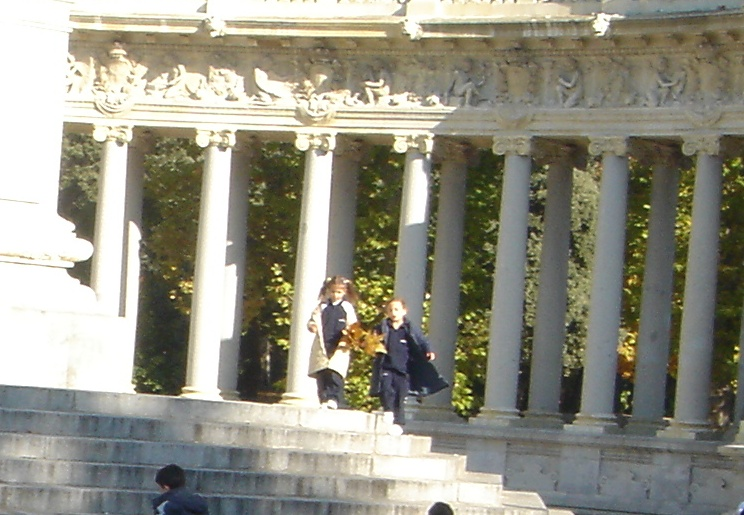person: (373, 295, 422, 431), (308, 273, 354, 408)
